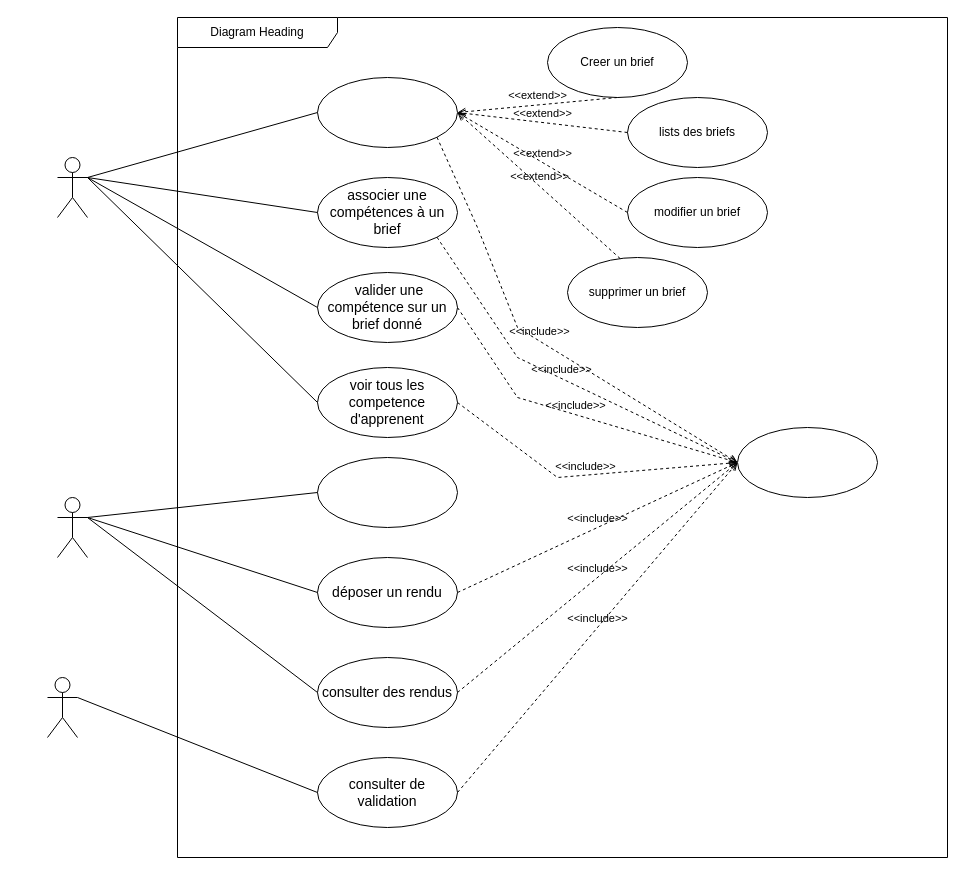
This 965x875 diagram has some shape labels left out. Here are the shapes that lost their labels. From the top down, the centre of each, then its label:
the point at 387,112: Gestion de brief
the point at 72,187: Formateur
the point at 807,462: Authentication
the point at 387,492: inscrire / se connecter
the point at 72,527: Apprenant
the point at 62,707: Administrateur
